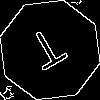T: (25, 25, 74, 80)
